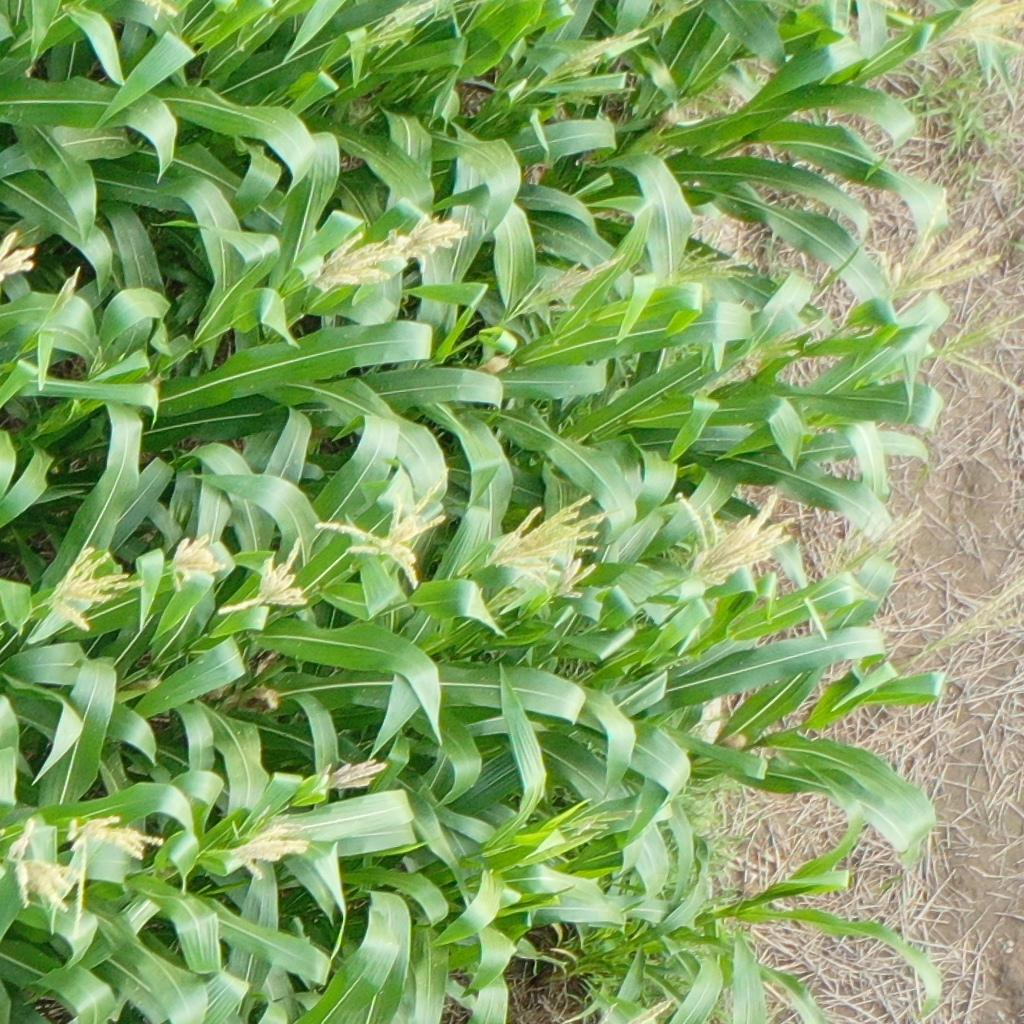Tassel: (317, 469, 456, 596), (670, 486, 797, 595), (67, 813, 165, 947), (484, 492, 622, 583), (868, 205, 1002, 295), (820, 503, 925, 605), (41, 544, 148, 636), (911, 574, 1024, 660), (928, 306, 1024, 397), (215, 538, 314, 622), (531, 30, 650, 95), (508, 254, 625, 320), (221, 800, 312, 884), (1, 816, 73, 918), (298, 229, 398, 295), (928, 1, 1024, 57), (740, 310, 830, 364), (388, 213, 465, 268), (664, 246, 759, 290), (162, 531, 229, 592), (363, 3, 440, 56), (536, 555, 599, 608), (310, 756, 389, 796), (37, 267, 79, 331), (561, 805, 639, 835), (645, 1, 710, 33), (1, 227, 38, 283), (430, 1, 490, 25), (139, 1, 181, 19)
